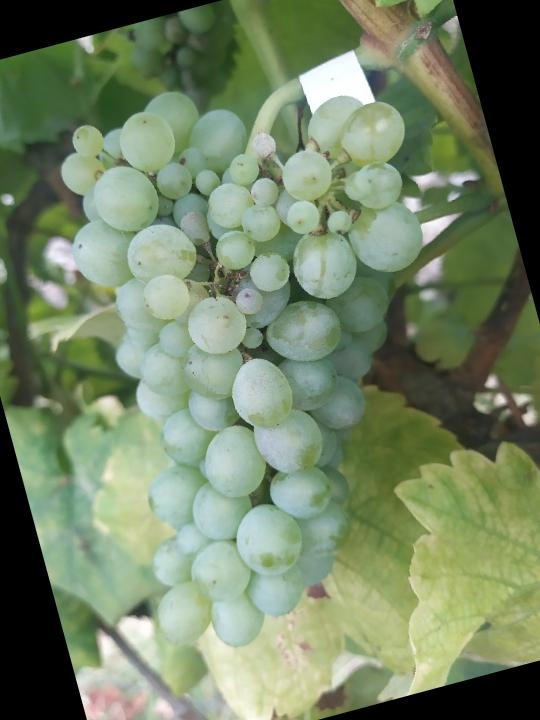grape: (23, 31, 527, 669)
